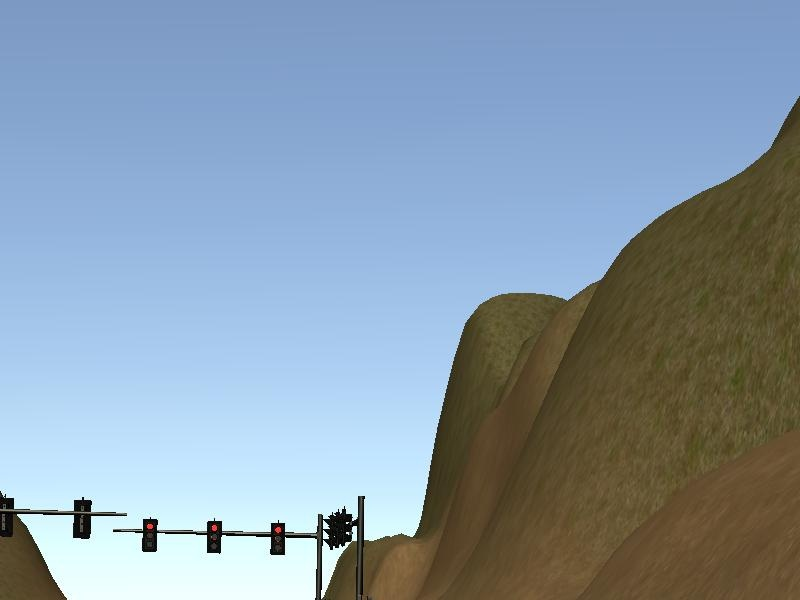red: (269, 524, 285, 557), (206, 521, 221, 553), (143, 518, 157, 552)
